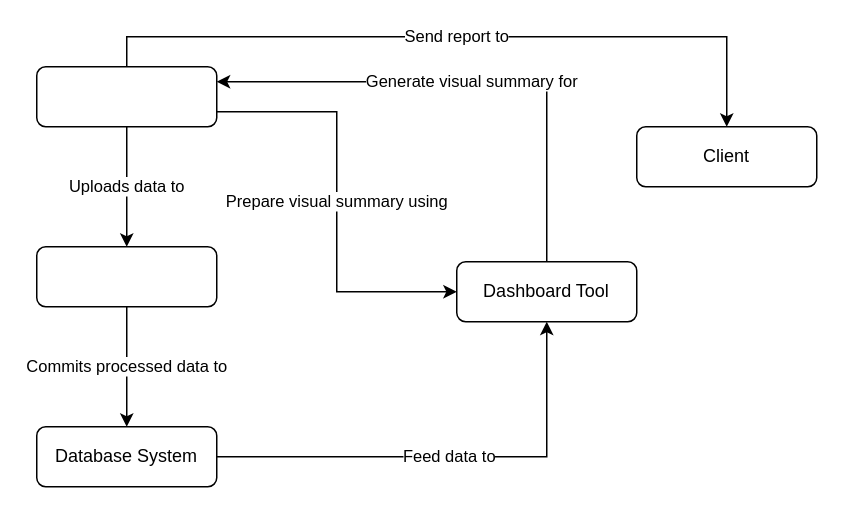
This 843x513 diagram has some shape labels left out. The shapes that lost their labels are listed below. From the top down, each one's centre as x and y in pixels, then its label:
pixel 126 96: User
pixel 126 276: Ingestion System
